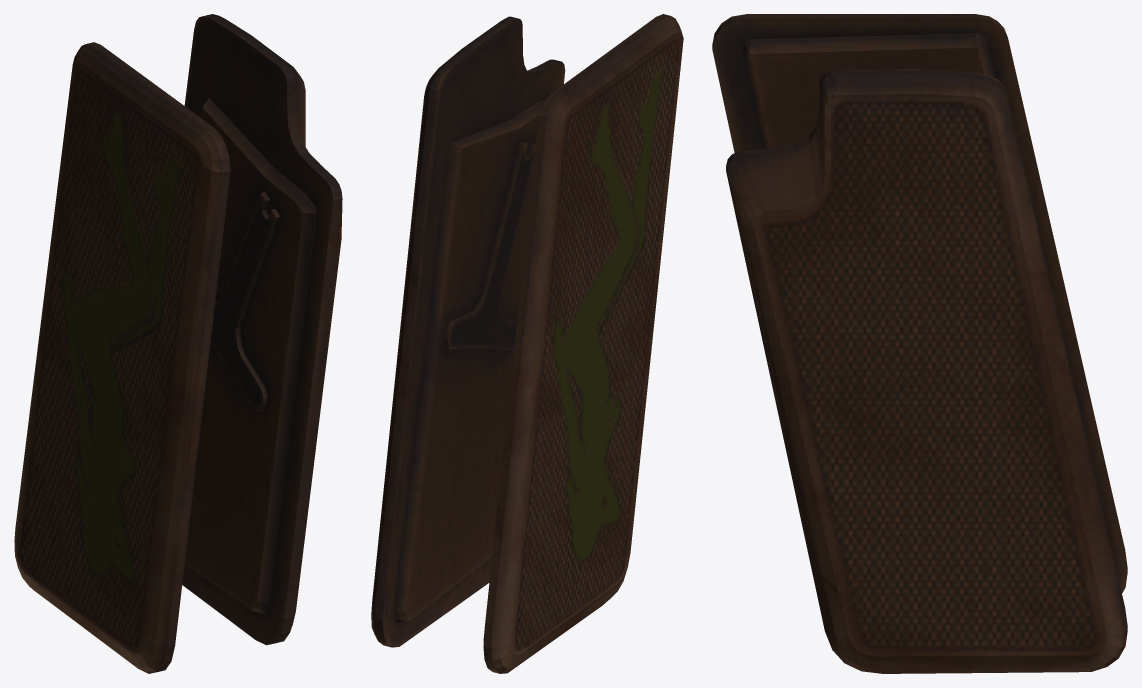
3 renders of one model, left to right at view 1: azimuth 30°, elevation 25°; view 2: azimuth 150°, elevation 25°; view 3: azimuth 270°, elevation 25°, orthographic. The views are drawn at different scales.
Visible parts, largest first — view 1: TW_5b3cadf35acfc400194776a0_PZ_Import; view 2: TW_5b3cadf35acfc400194776a0_PZ_Import; view 3: TW_5b3cadf35acfc400194776a0_PZ_Import.
Boxes of the visible parts, box(x1,y1,x2,y2) form: TW_5b3cadf35acfc400194776a0_PZ_Import: box(14, 14, 342, 673); TW_5b3cadf35acfc400194776a0_PZ_Import: box(371, 14, 683, 673); TW_5b3cadf35acfc400194776a0_PZ_Import: box(712, 14, 1127, 673).
Bounding box in the file's own units: 0.0132 × 0.0312 × 0.0497.
1 material, 1 textured.
